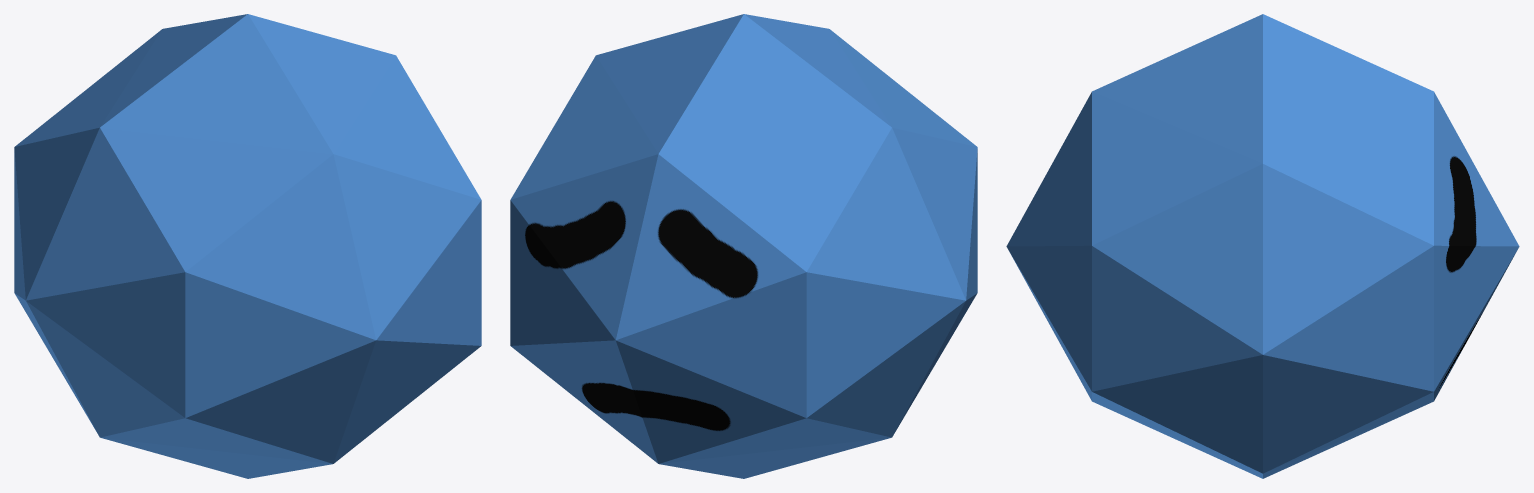
The model's file is Enemy.obj.
3 views of the same model, side by side, from view 1: azimuth 30°, elevation 25°; view 2: azimuth 150°, elevation 25°; view 3: azimuth 270°, elevation 25° (orthographic).
Visible parts, largest first — view 1: Cube; view 2: Cube; view 3: Cube.
Boxes of the visible parts, left/top/right/bottom form: Cube: left=14, top=14, right=481, bottom=478; Cube: left=510, top=14, right=977, bottom=478; Cube: left=1006, top=14, right=1519, bottom=478.
Size of the model in its own units: 3 by 3 by 3.
